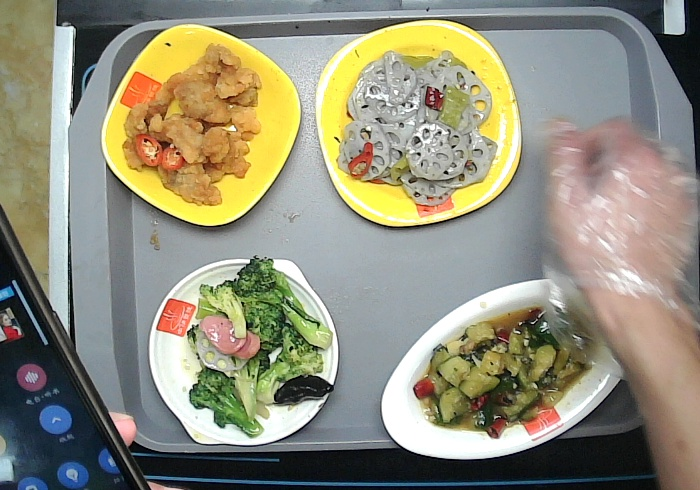SHKJ-Bao_Yu_Pan: (143, 251, 346, 449)
SHKJ-Huang_Se_Cai_Die: (97, 20, 310, 235)
SHKJ-Huang_Se_Si_Fang_Cai_Die: (315, 20, 527, 232)
SHKJ-Yu_Pan: (374, 272, 631, 467)
